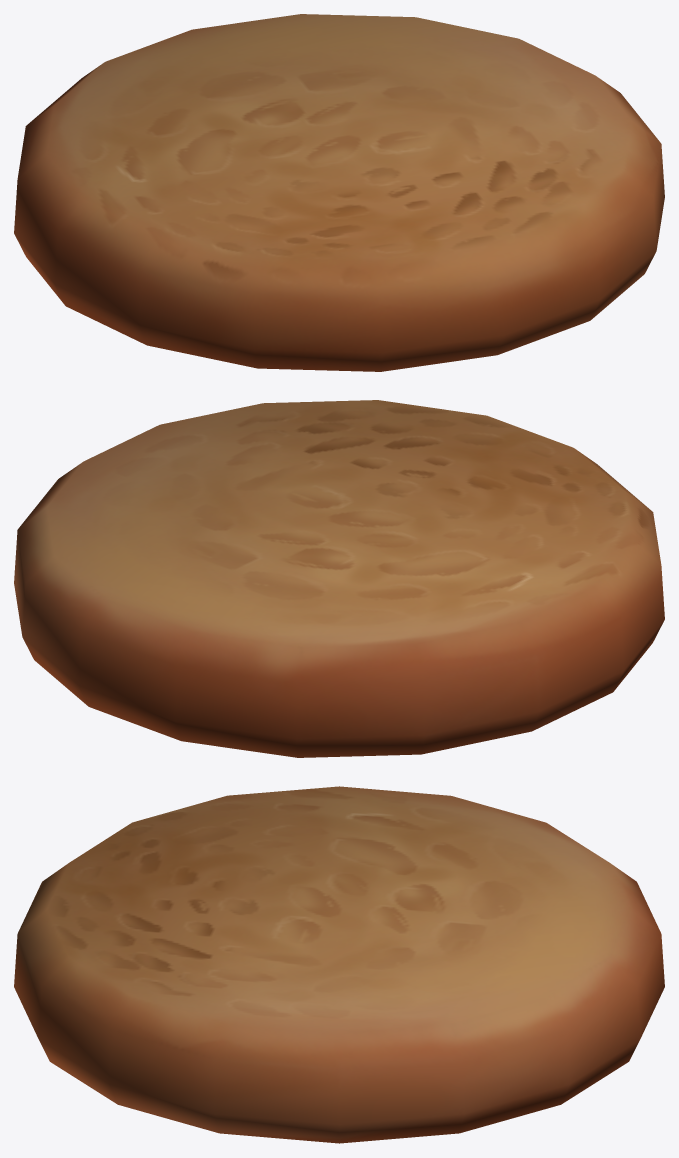
Rendered from burgerbreaddown.fbx.
3 renders of one model, top to bottom at view 1: azimuth 30°, elevation 25°; view 2: azimuth 150°, elevation 25°; view 3: azimuth 270°, elevation 25°, orthographic.
Parts seen in each view (by area): view 1: burgerbreaddown; view 2: burgerbreaddown; view 3: burgerbreaddown.
Boxes of the visible parts, <box> form: burgerbreaddown: <box>14,14,664,371</box>; burgerbreaddown: <box>14,400,664,757</box>; burgerbreaddown: <box>14,786,664,1143</box>.
Bounding box in the file's own units: 28.83 × 4.93 × 28.83.
